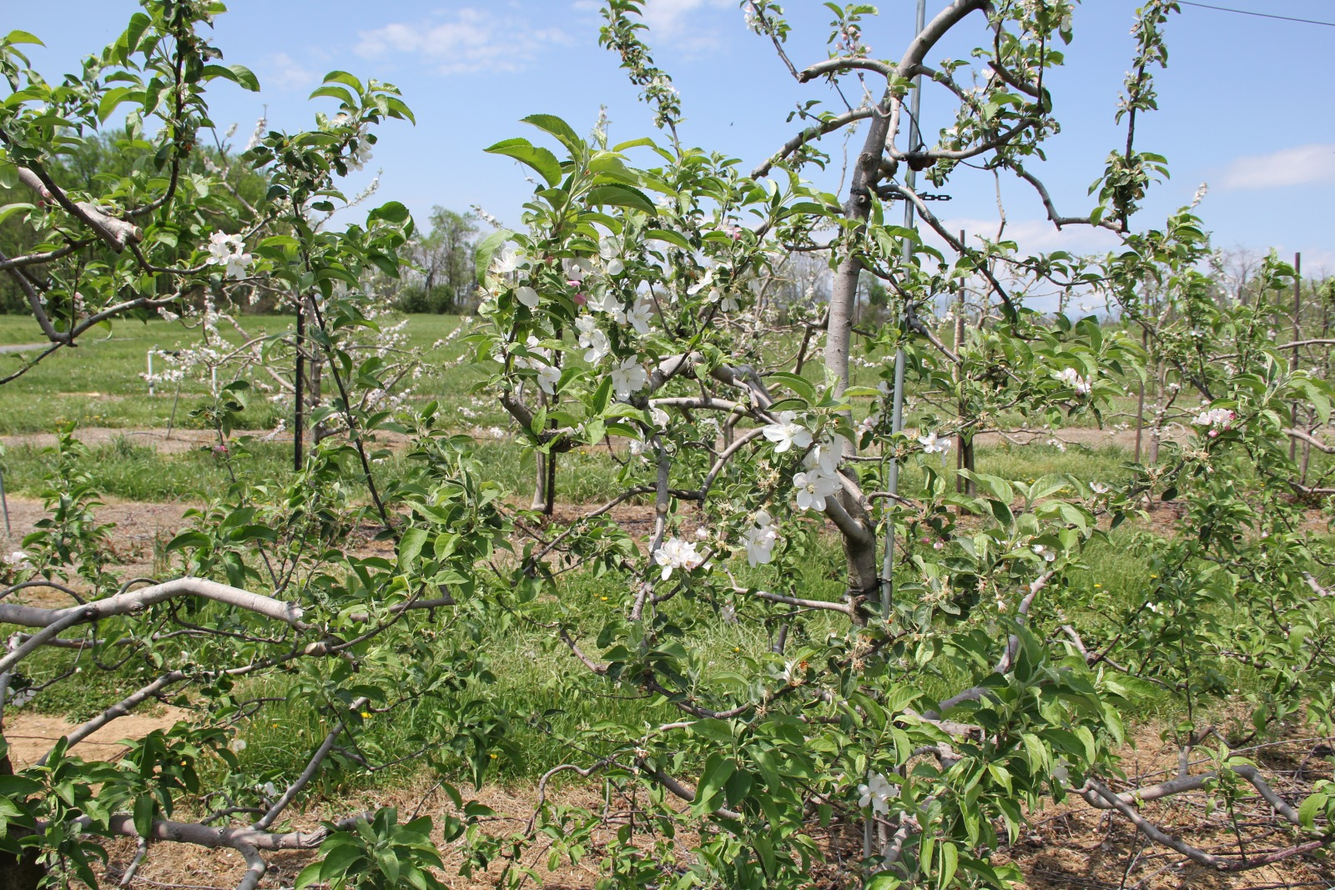flower: (576, 290, 655, 365), (791, 434, 849, 512), (202, 230, 256, 280), (515, 347, 562, 395), (763, 410, 814, 454), (653, 537, 703, 581), (743, 508, 776, 568), (858, 770, 900, 817), (607, 355, 648, 402), (340, 123, 375, 173), (562, 249, 603, 281), (918, 431, 952, 468), (491, 248, 531, 274), (702, 287, 742, 312), (1055, 368, 1086, 393), (1191, 409, 1233, 427), (743, 3, 766, 35), (715, 213, 743, 239), (688, 270, 714, 295), (515, 287, 540, 310), (648, 406, 670, 430), (856, 414, 879, 436), (600, 257, 624, 275), (1031, 545, 1056, 562), (673, 224, 694, 241), (330, 114, 355, 128), (658, 76, 677, 94), (630, 440, 651, 456), (719, 606, 735, 626), (876, 381, 894, 396), (746, 277, 762, 292), (1061, 14, 1073, 33), (696, 526, 711, 541), (1091, 482, 1109, 494), (740, 265, 755, 279), (526, 336, 540, 349), (982, 69, 995, 82), (493, 354, 506, 364), (703, 562, 713, 572), (679, 247, 688, 254), (756, 13, 760, 18)
